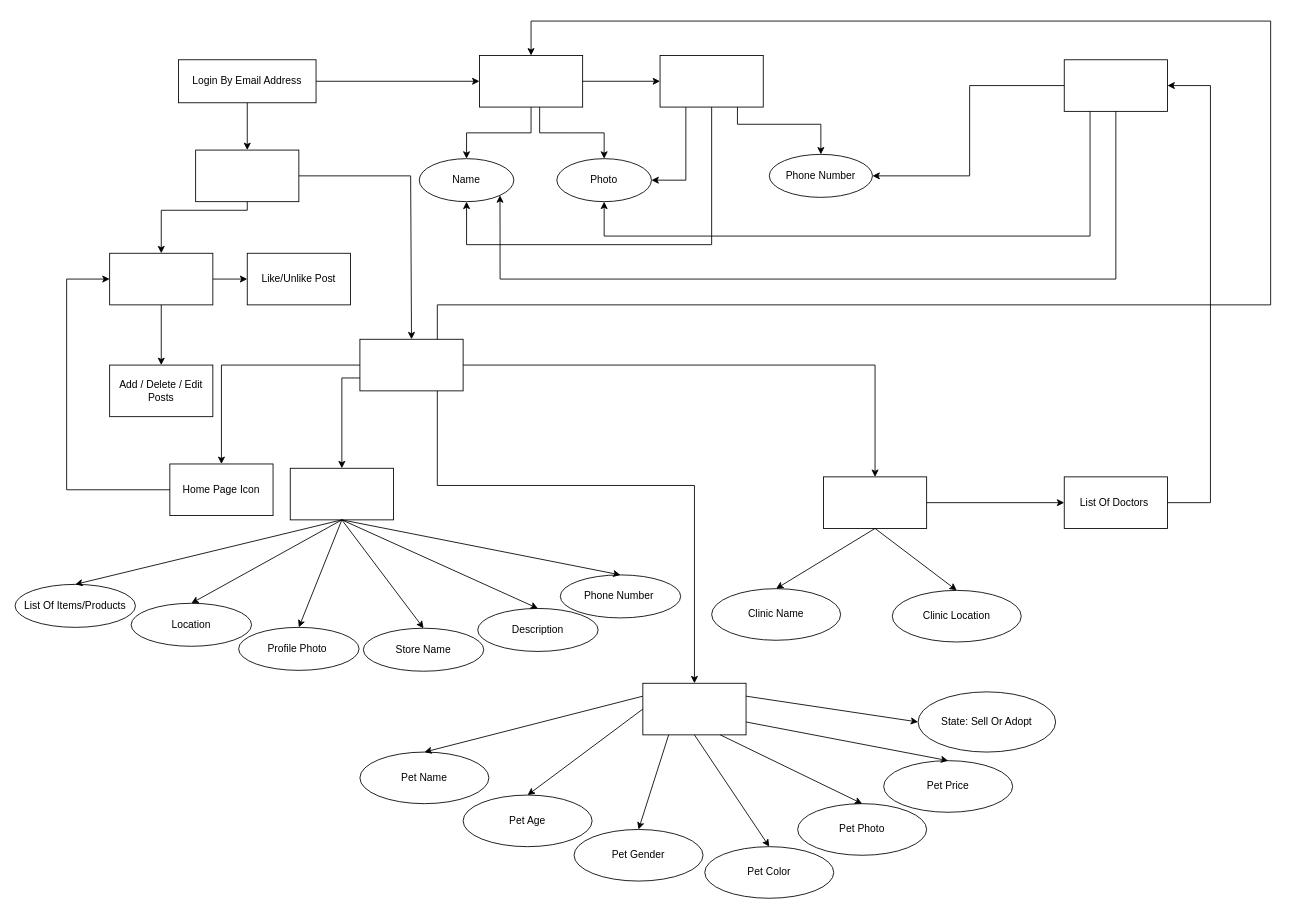
The diagram is 1293 pixels wide and 913 high, and some of its shapes have lost their labels. Each missing label, with the box of its shape:
Clinic Icon: (823, 476, 927, 528)
Doctor Profile: (1063, 59, 1167, 111)
Home Posts: (109, 252, 213, 305)
Home Screen: (195, 149, 299, 202)
Home Tabs: (359, 338, 463, 391)
Pet Icon: (642, 682, 746, 735)
Shelter Profile: (659, 55, 763, 107)
Stores Icon: (289, 467, 393, 520)
User Profile: (479, 55, 583, 107)
